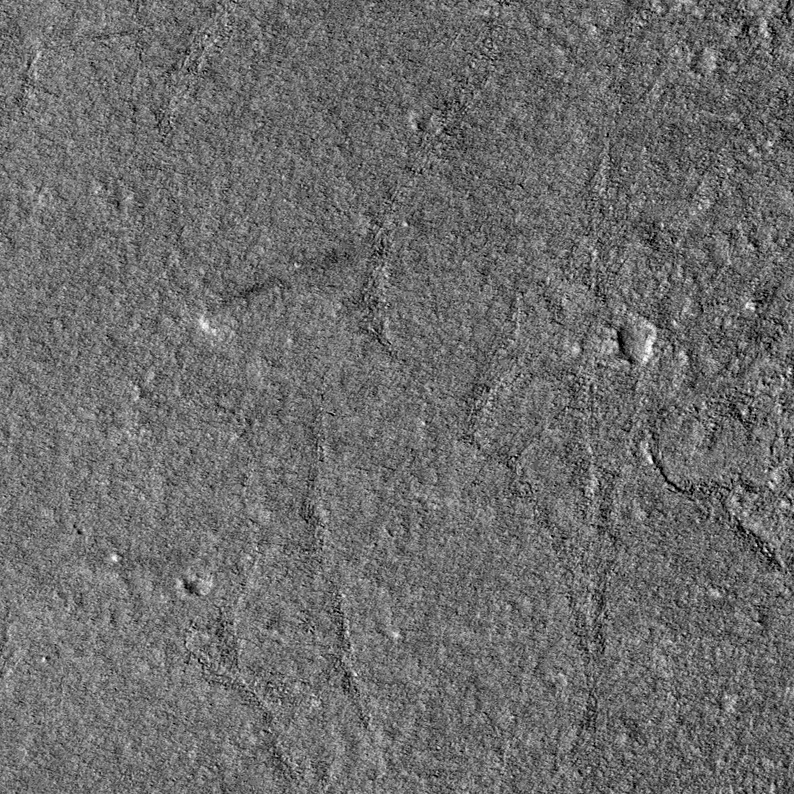dust_devil: (196, 246, 353, 339)
